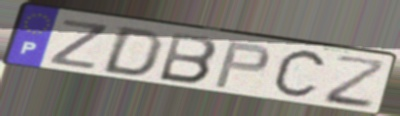B: (156, 30, 221, 86)
C: (269, 48, 330, 102)
D: (98, 25, 167, 78)
P: (211, 40, 273, 90)
Z: (323, 54, 390, 112), (46, 17, 112, 72)
